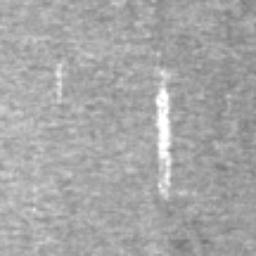White rust: (153, 70, 172, 199), (55, 62, 63, 99)
